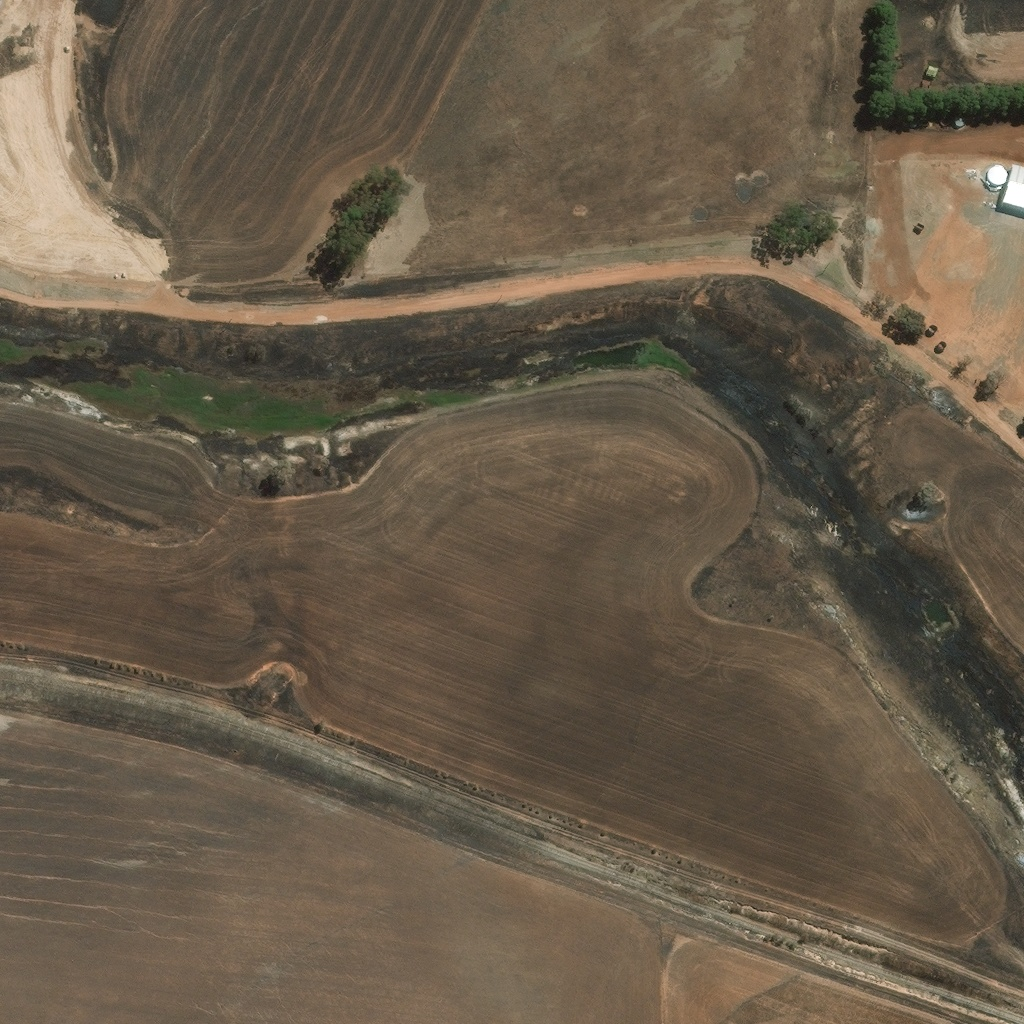0 no-damage: (1001, 163, 1023, 209), (987, 163, 1008, 185), (951, 114, 963, 127), (926, 64, 937, 76)
